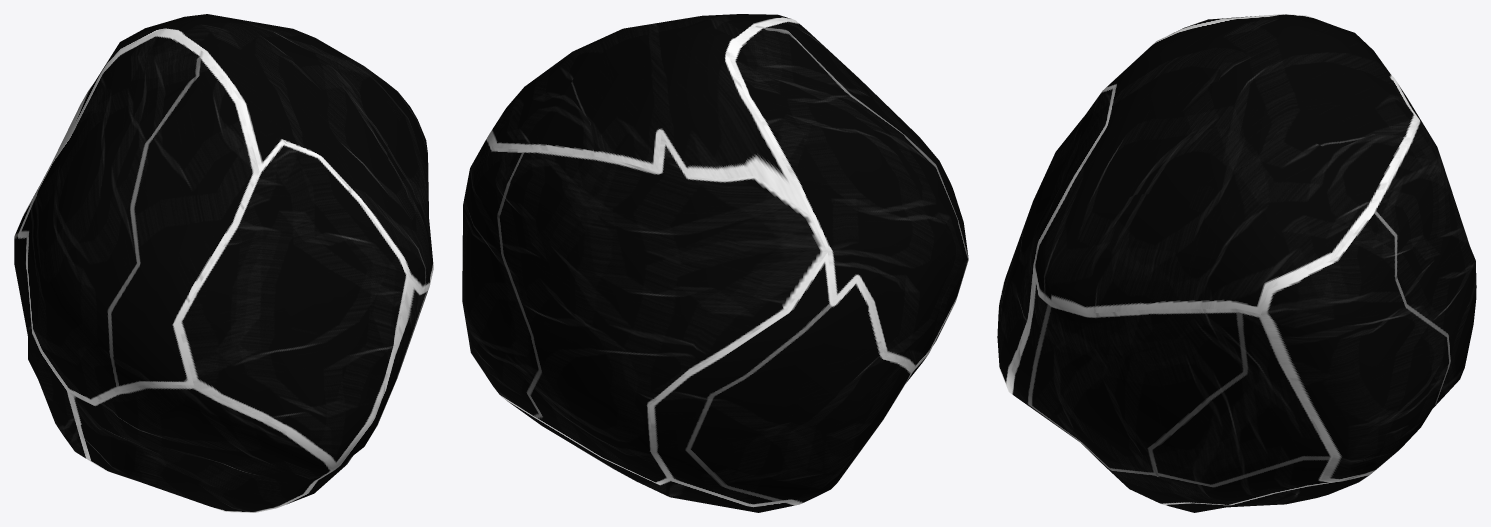
The model's file is Rock_03_lo.fbx.
3 views of the same model, side by side, from view 1: azimuth 30°, elevation 25°; view 2: azimuth 150°, elevation 25°; view 3: azimuth 270°, elevation 25° (orthographic). The views are drawn at different scales.
Parts seen in each view (by area): view 1: Rock_03_lo; view 2: Rock_03_lo; view 3: Rock_03_lo.
Boxes of the visible parts, box(x1,y1,x2,y2) form: Rock_03_lo: box(14, 14, 433, 512); Rock_03_lo: box(462, 14, 968, 512); Rock_03_lo: box(997, 14, 1476, 512).
Bounding box in the file's own units: 132 × 147 × 132.
